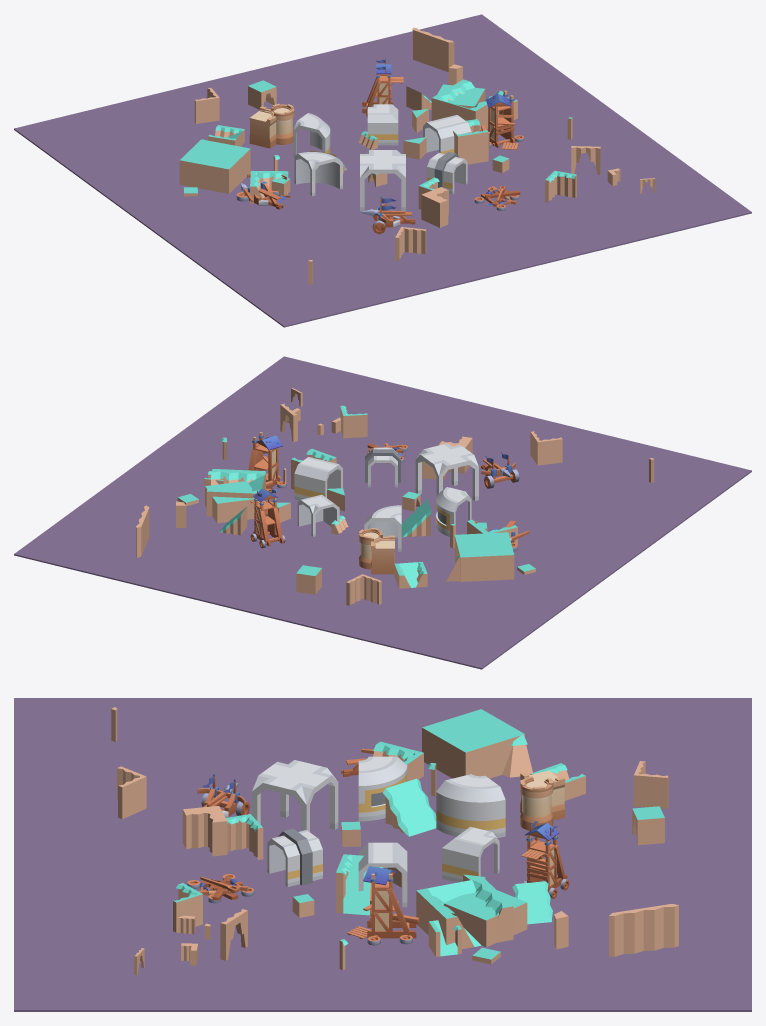
Rendered from world.glb.
3 views of the same model, one above another, from view 1: azimuth 30°, elevation 25°; view 2: azimuth 150°, elevation 25°; view 3: azimuth 270°, elevation 25° (orthographic). The views are drawn at different scales.
Parts seen in each view (by area): view 1: Terrain, Wild_002_cliff_blockHalf_rock, Past_002_wall-corner-half-tow, Future_003_corridor_cornerRound, Past_000_siege-tower-demolish, Wild_004_cliff_blockSlopeHalf, Future_004_corridor_cross, Wild_015_cliff_diagonal_rock, Future_000_corridor, Future_005_corridor_detailed, Future_001_corridor_corner, Wild_025_cliff_blockSlopeWall (+14 smaller); view 2: Terrain, Wild_002_cliff_blockHalf_rock, Future_004_corridor_cross, Future_000_corridor, Past_002_wall-corner-half-tow, Past_001_siege-tower, Wild_004_cliff_blockSlopeHalf, Past_000_siege-tower-demolish, Wild_022_cliff_blockHalf_rock, Future_001_corridor_corner, Future_003_corridor_cornerRound, Future_002_corridor_cornerRound (+9 smaller); view 3: Terrain, Wild_002_cliff_blockHalf_rock, Future_002_corridor_cornerRound, Wild_004_cliff_blockSlopeHalf, Future_004_corridor_cross, Wild_015_cliff_diagonal_rock, Past_000_siege-tower-demolish, Future_005_corridor_detailed, Future_003_corridor_cornerRound, Past_002_wall-corner-half-tow, Wild_022_cliff_blockHalf_rock, Wild_026_cliff_blockSlope_roc (+19 smaller).
Part boxes in pixels (<box>): Terrain: <box>14,14,751,327</box>; Wild_002_cliff_blockHalf_rock: <box>179,139,250,193</box>; Past_002_wall-corner-half-tow: <box>249,103,294,148</box>; Future_003_corridor_cornerRound: <box>294,152,342,196</box>; Past_000_siege-tower-demolish: <box>480,90,523,149</box>; Wild_004_cliff_blockSlopeHalf: <box>431,79,503,130</box>; Future_004_corridor_cross: <box>360,150,405,211</box>; Wild_015_cliff_diagonal_rock: <box>412,27,454,72</box>; Future_000_corridor: <box>423,115,471,153</box>; Future_005_corridor_detailed: <box>427,151,467,194</box>; Future_001_corridor_corner: <box>367,104,398,145</box>; Wild_025_cliff_blockSlopeWall: <box>453,119,488,164</box>; Terrain: <box>14,356,751,669</box>; Wild_002_cliff_blockHalf_rock: <box>454,532,514,581</box>; Future_004_corridor_cross: <box>415,443,478,500</box>; Future_000_corridor: <box>294,457,342,500</box>; Past_002_wall-corner-half-tow: <box>359,528,394,574</box>; Past_001_siege-tower: <box>250,487,285,548</box>; Wild_004_cliff_blockSlopeHalf: <box>206,469,265,516</box>; Past_000_siege-tower-demolish: <box>248,432,286,493</box>; Wild_022_cliff_blockHalf_rock: <box>205,481,254,523</box>; Future_001_corridor_corner: <box>297,494,339,536</box>; Future_003_corridor_cornerRound: <box>436,487,471,536</box>; Future_002_corridor_cornerRound: <box>364,505,401,551</box>; Terrain: <box>14,698,751,1011</box>; Wild_002_cliff_blockHalf_rock: <box>422,709,524,778</box>; Future_002_corridor_cornerRound: <box>436,774,505,837</box>; Wild_004_cliff_blockSlopeHalf: <box>416,877,513,949</box>; Future_004_corridor_cross: <box>252,760,338,831</box>; Wild_015_cliff_diagonal_rock: <box>609,904,678,956</box>; Past_000_siege-tower-demolish: <box>347,866,419,945</box>; Future_005_corridor_detailed: <box>267,828,322,886</box>; Future_003_corridor_cornerRound: <box>358,756,407,821</box>; Past_002_wall-corner-half-tow: <box>520,770,565,830</box>; Wild_022_cliff_blockHalf_rock: <box>443,890,527,947</box>; Wild_026_cliff_blockSlope_roc: <box>383,778,436,836</box>.
Bounding box in the file's own units: 160 × 17.09 × 160.
Materials: 61 (6 with a texture image).
